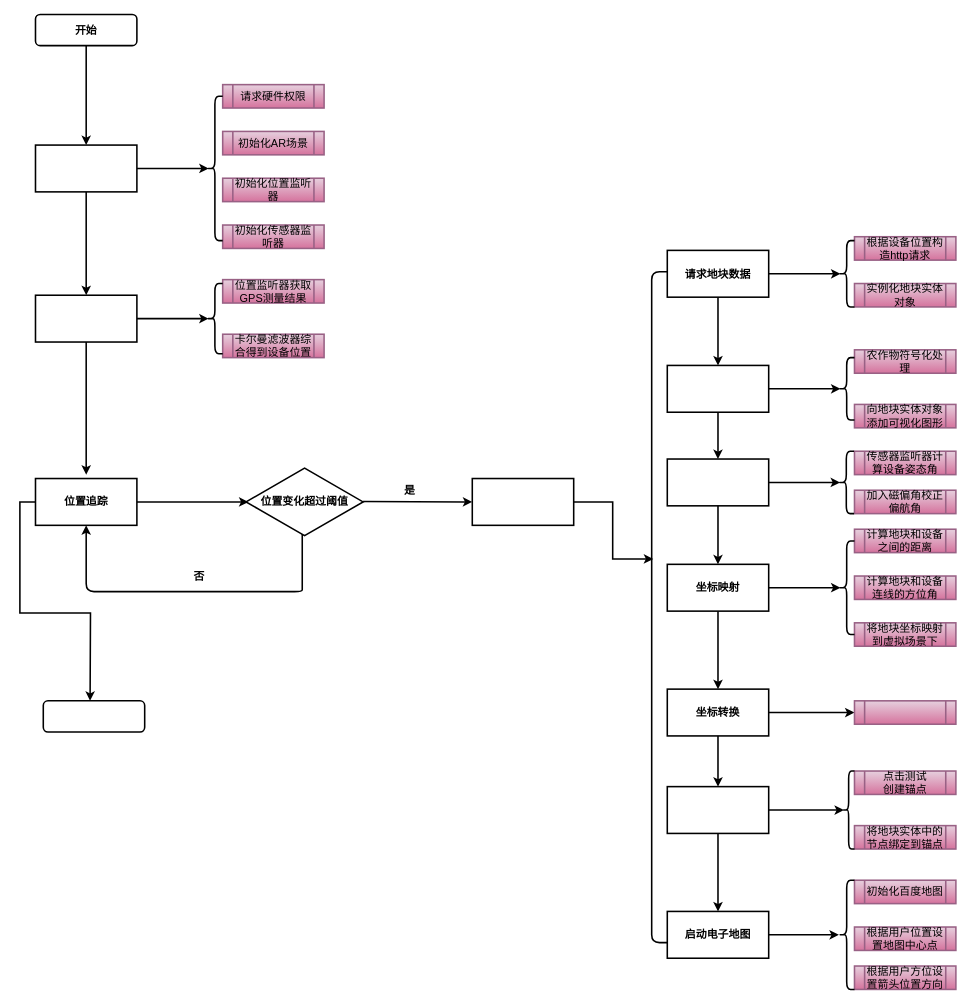
This 970x1004 diagram has some shape labels left out. Here are the shapes that lost their labels. From the top down, the centre of each, then its label:
the point at 85,168: 初始化系统
the point at 85,318: 获取设备位置
the point at 717,388: 可视化信息定制
the point at 522,501: 重建虚拟场景
the point at 717,482: 设备姿态求解
the point at 93,716: 结束
the point at 904,712: 计算地块的屏幕坐标
the point at 717,809: 创建锚定并锚定
